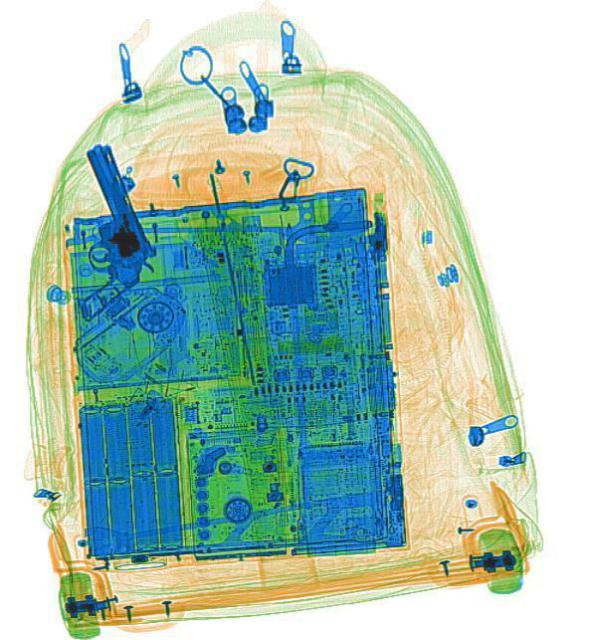Gun: (20, 141, 170, 321)
